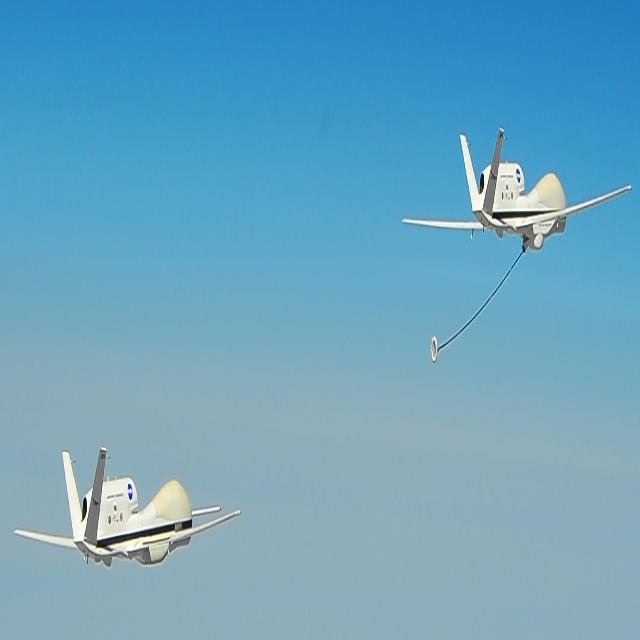MIL_Plane: (402, 127, 632, 254), (13, 446, 241, 567)
